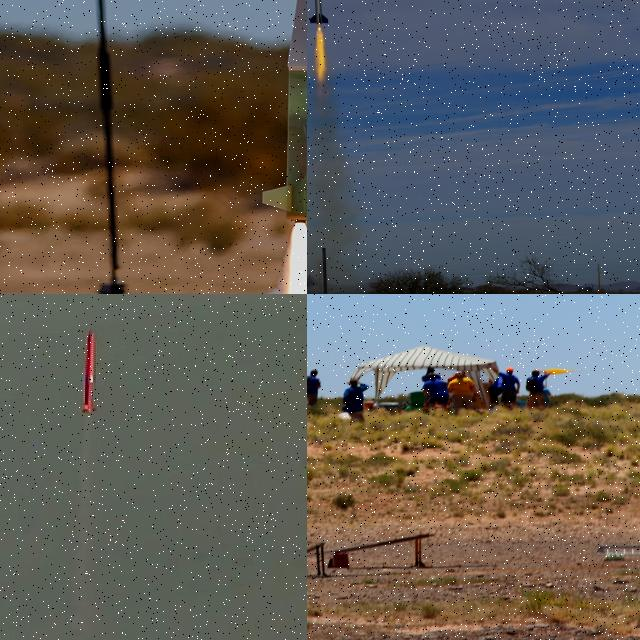Rocket: (260, 0, 307, 225), (81, 328, 98, 414), (309, 0, 330, 24)
